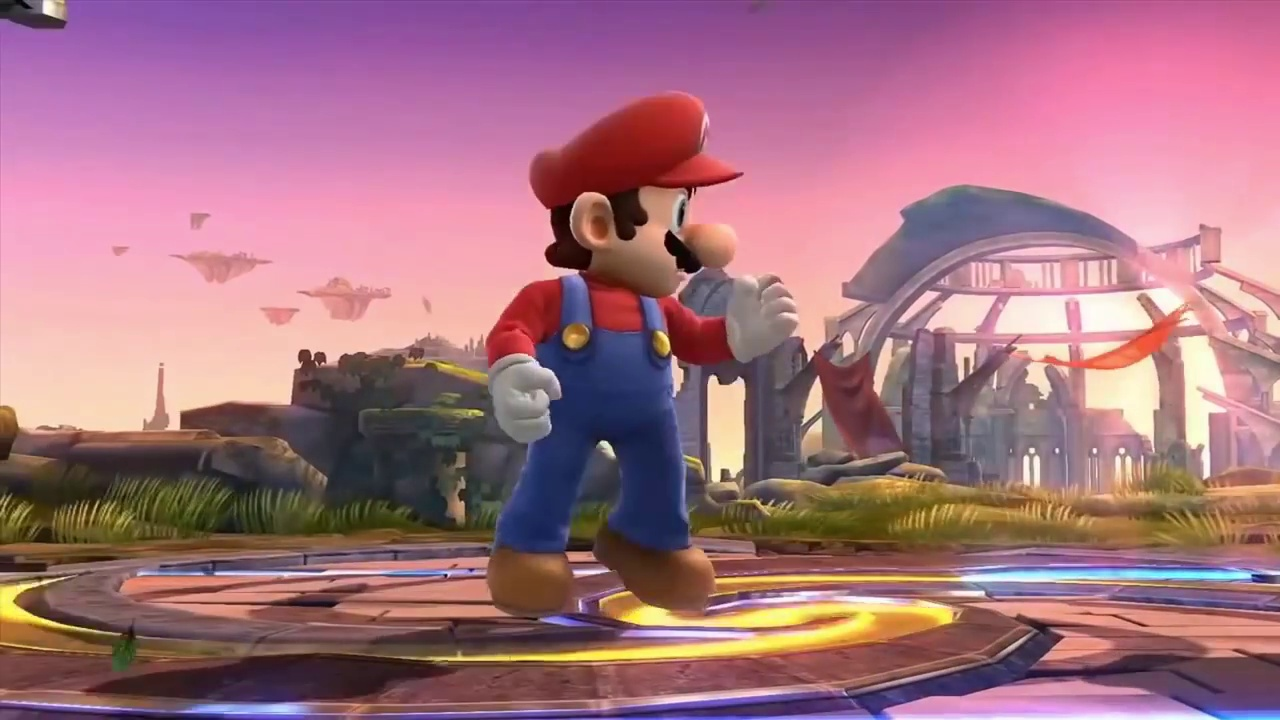Mario: (487, 93, 796, 619)
